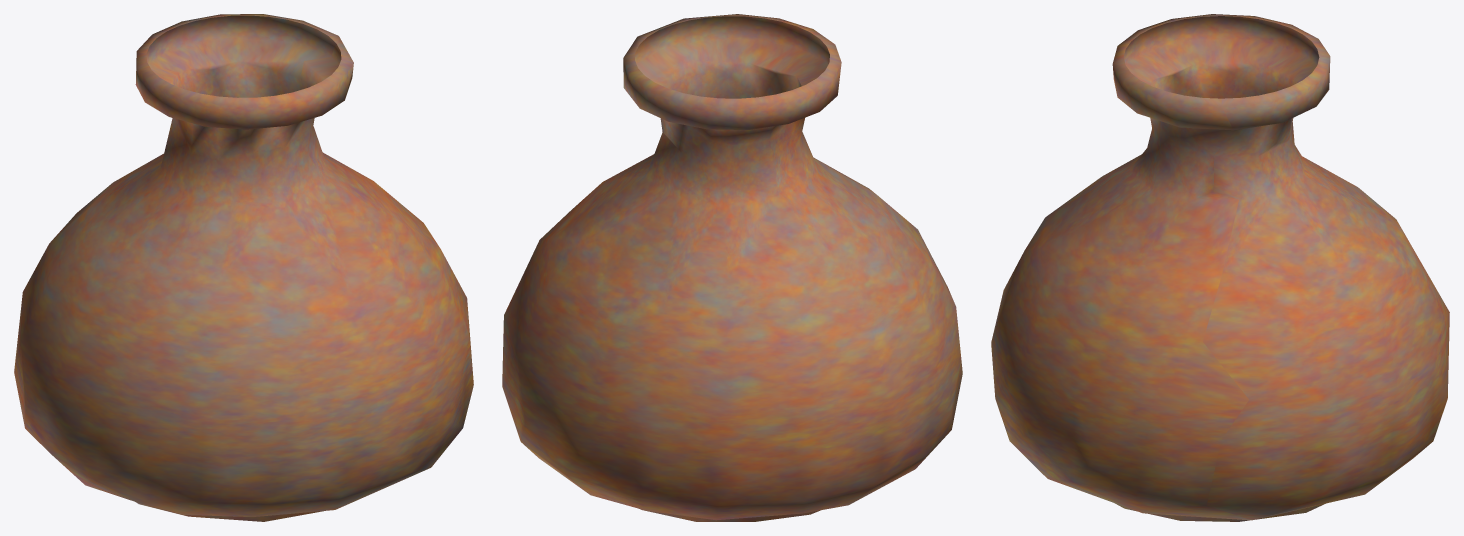
File: Vaso.gltf
3 renders of one model, left to right at view 1: azimuth 30°, elevation 25°; view 2: azimuth 150°, elevation 25°; view 3: azimuth 270°, elevation 25°, orthographic.
Parts seen in each view (by area): view 1: Plane.001; view 2: Plane.001; view 3: Plane.001.
Boxes of the visible parts, <box> form: Plane.001: <box>14,14,473,521</box>; Plane.001: <box>502,14,962,521</box>; Plane.001: <box>991,14,1449,521</box>.
Size of the model in its own units: 1.55 by 1.5 by 1.54.
Materials: 1 (1 with a texture image).
